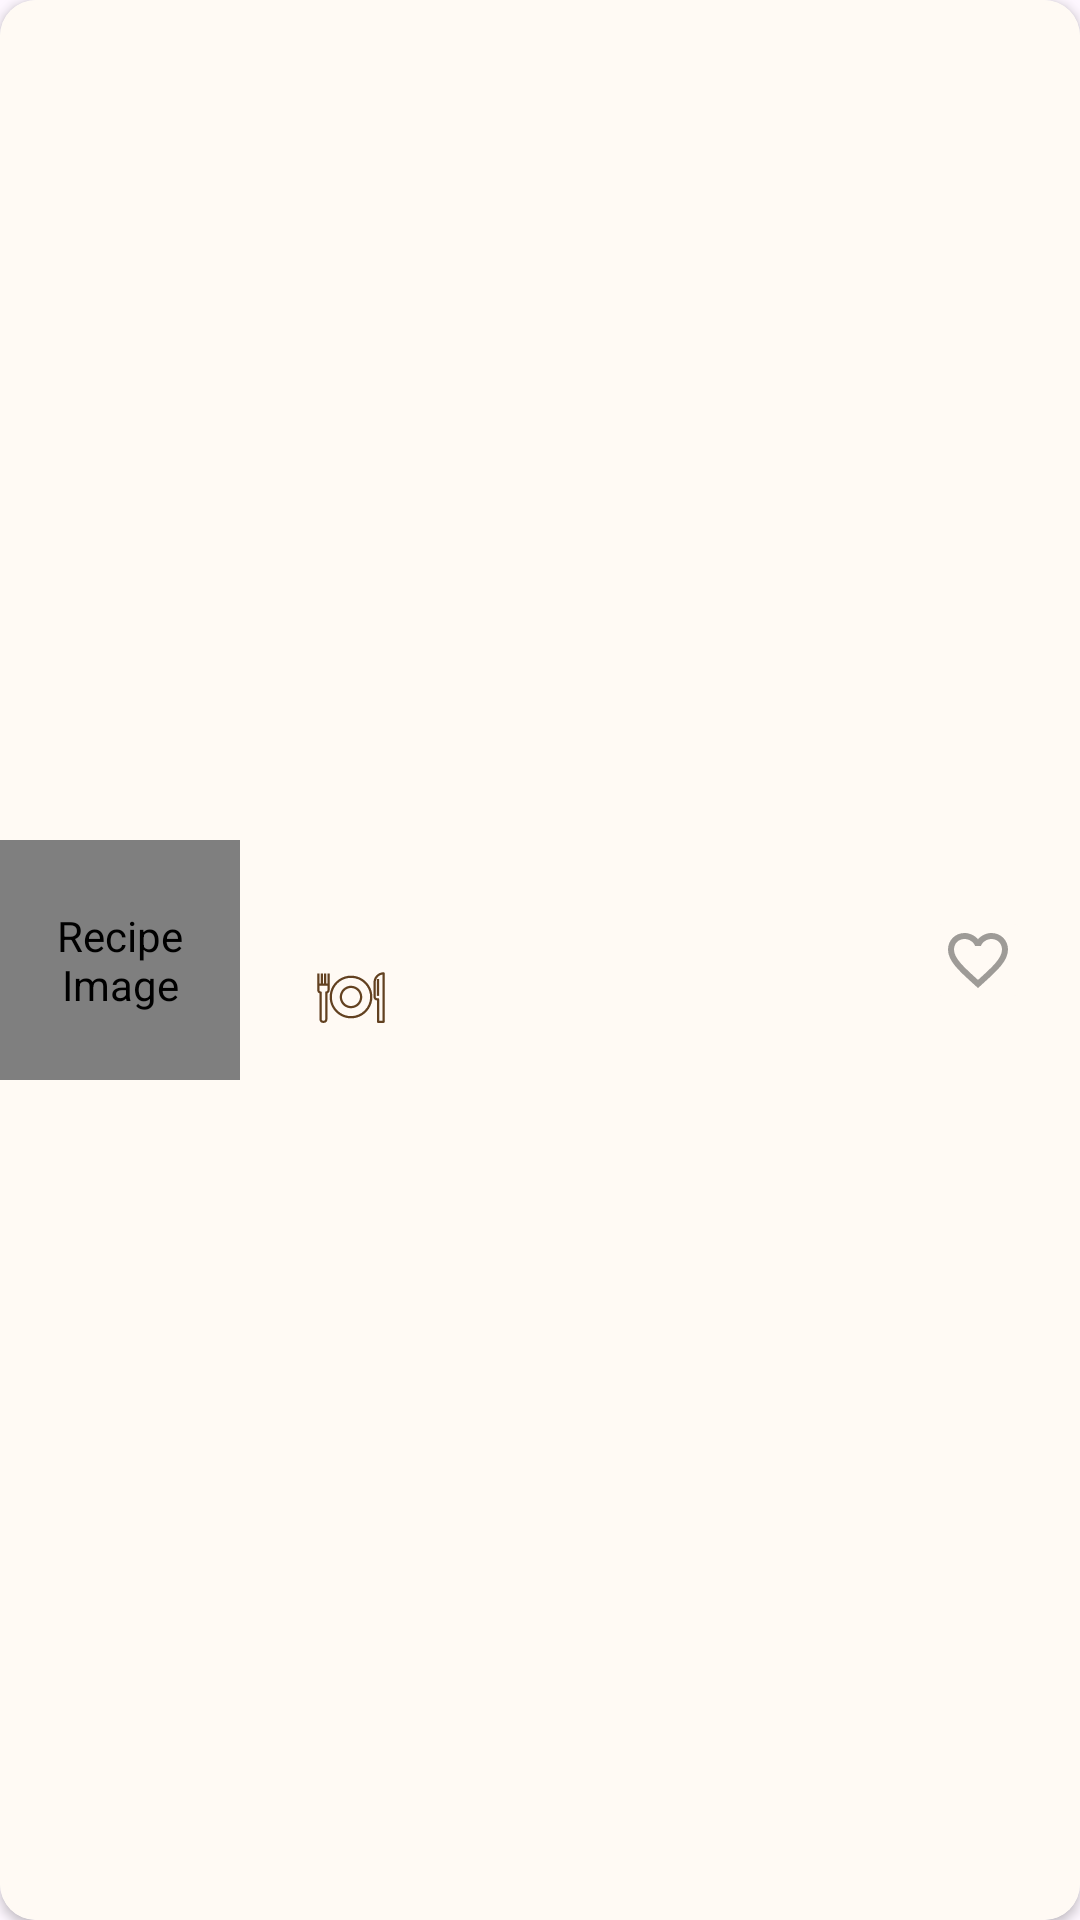

Named icons in this screenshot (1080px×1920px) and their bounding boxes, bbox=[x1, y1, x2, y2]:
Dish Image: bbox=[317, 972, 385, 1023]
Heart Icon: bbox=[948, 933, 1008, 988]
